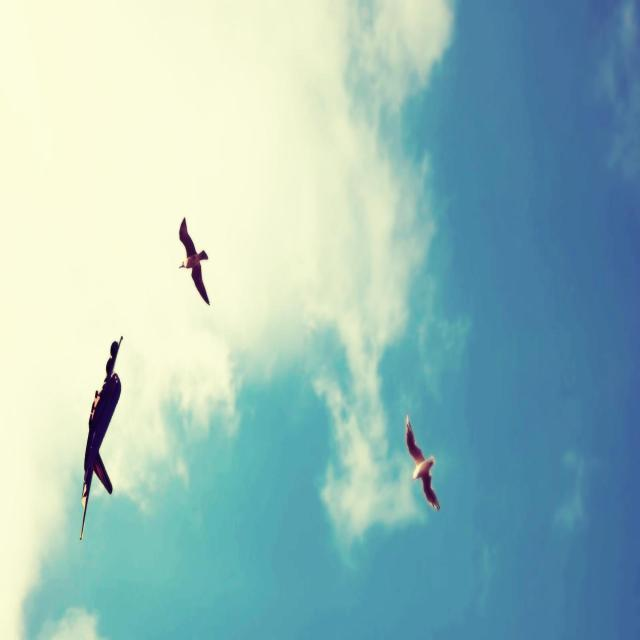airplane: (79, 335, 123, 540)
